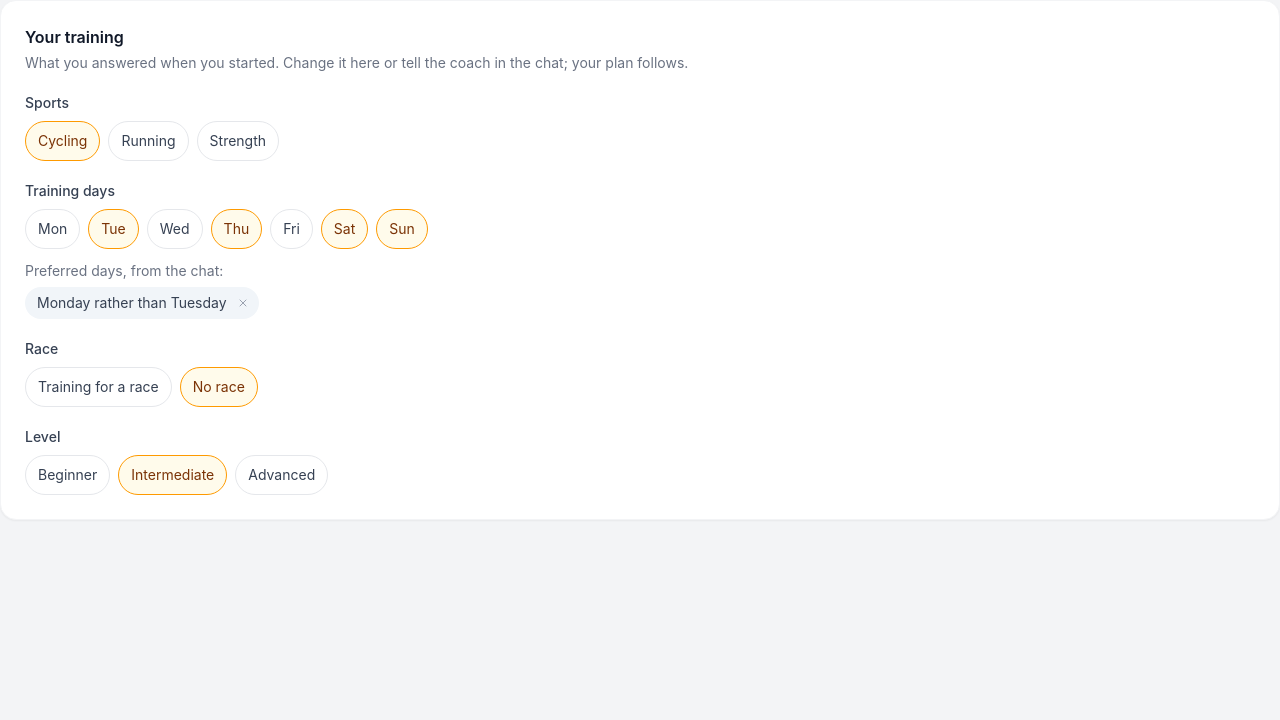
Test: TrainingAnswersSettings (ai-trainer-ops#202) › says so when a preference cannot be dropped
Click the button named "Remove Monday rather than Tuesday".
click(243, 303)  # box [231,291,255,315]
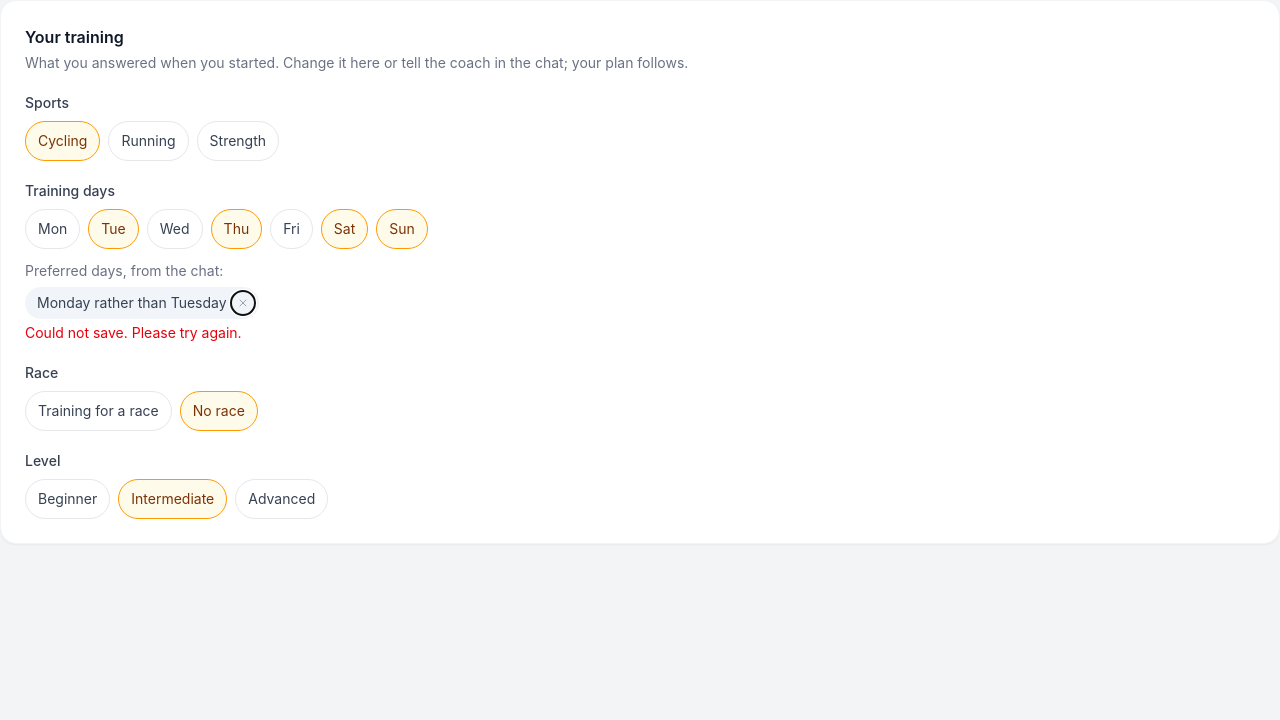
expect the list item "Monday rather than Tuesday" is shown: met, box [25,287,259,319]
expect the message reads "Could not save. Please try again.": met, box [25,324,242,341]
